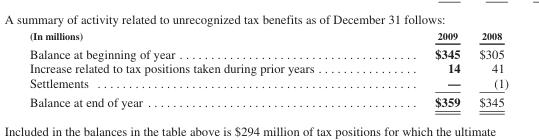table: (28, 29, 507, 108)
table column: (28, 29, 373, 108), (373, 29, 469, 108), (469, 29, 507, 108)
table column header: (28, 29, 507, 43)
table row: (28, 43, 507, 60), (28, 74, 507, 91), (28, 91, 507, 108), (28, 29, 507, 43), (28, 60, 507, 74)
